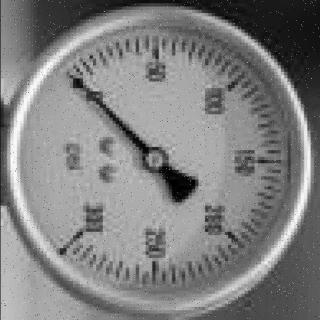gauge: (0, 0, 320, 320), (55, 196, 105, 256), (59, 62, 108, 118), (140, 145, 170, 177), (61, 69, 83, 90)
